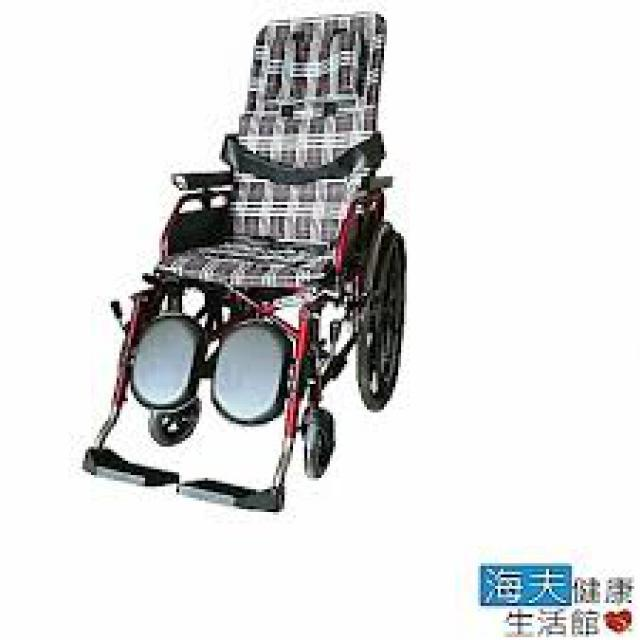wheelchair: (62, 0, 424, 552)
